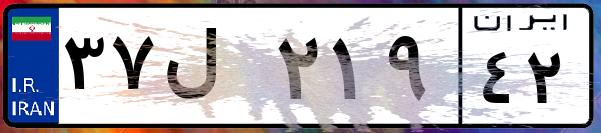1: (330, 28, 385, 110)
2: (270, 28, 330, 110), (525, 38, 570, 115)
3: (57, 26, 110, 100)
4: (475, 38, 525, 113)
7: (110, 28, 158, 98)
9: (385, 28, 445, 110)
ل: (158, 20, 270, 120)
